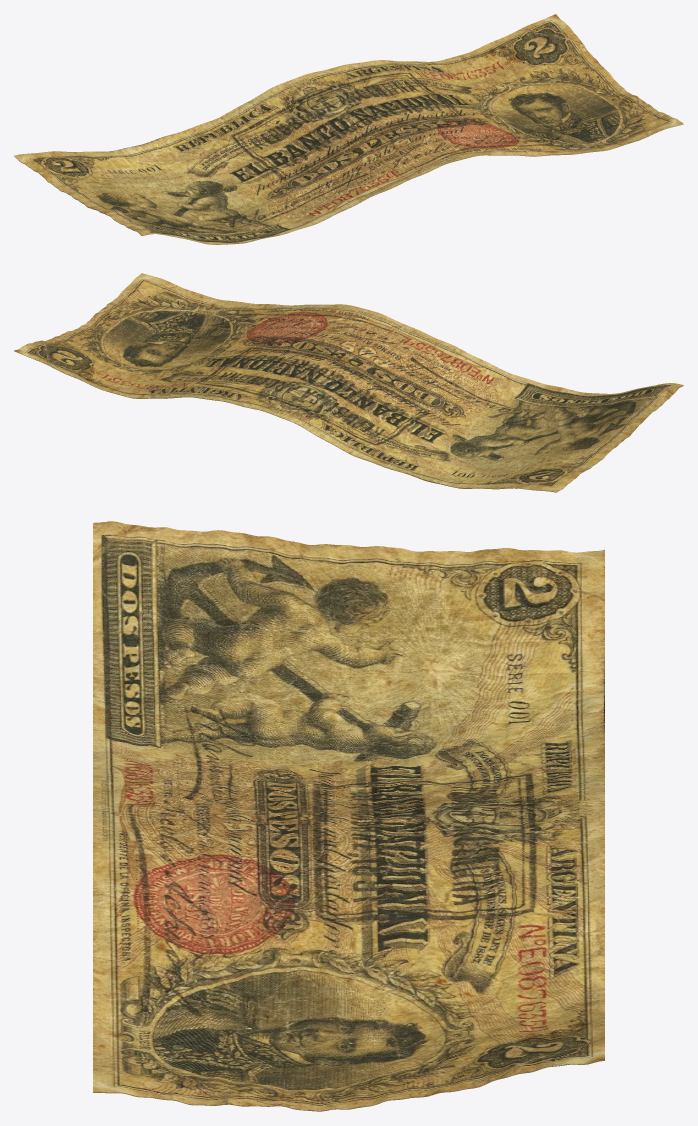
The model's file is 2-pesos-1888.glb.
3 views of the same model, one above another, from view 1: azimuth 30°, elevation 25°; view 2: azimuth 150°, elevation 25°; view 3: azimuth 270°, elevation 25° (orthographic). The views are drawn at different scales.
Visible parts, largest first — view 1: banknote_2_pesos_1888; view 2: banknote_2_pesos_1888; view 3: banknote_2_pesos_1888.
Boxes of the visible parts, left/top/right/bottom form: banknote_2_pesos_1888: left=14, top=14, right=683, bottom=244; banknote_2_pesos_1888: left=14, top=273, right=683, bottom=492; banknote_2_pesos_1888: left=93, top=521, right=604, bottom=1111.
Size of the model in its own units: 0.176 by 0.0142 by 0.072.
Materials: 3 (2 with a texture image).
